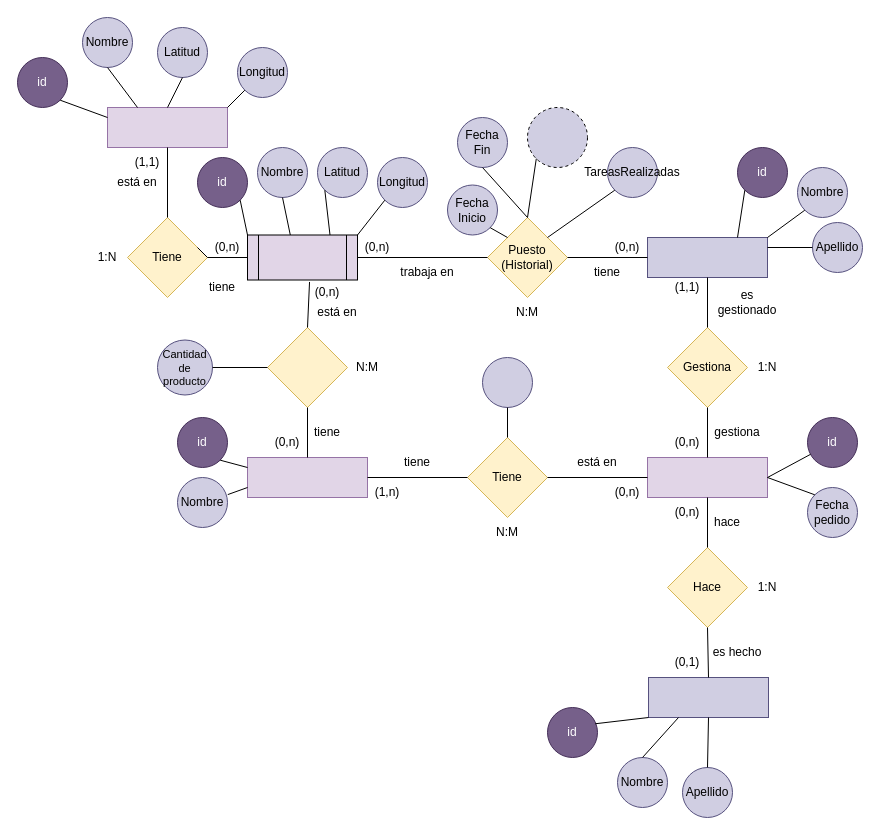
This 880x835 diagram has some shape labels left out. Each missing label, with the centre of its shape:
Cantidad: (507,382)
ClienteTajinastePlus: (708,697)
Empleado: (707,257)
Pedido: (707,477)
Productividad: (557,137)
Producto: (307,477)
Stock: (307,367)
Vivero: (167,127)
Zona: (302,257)
